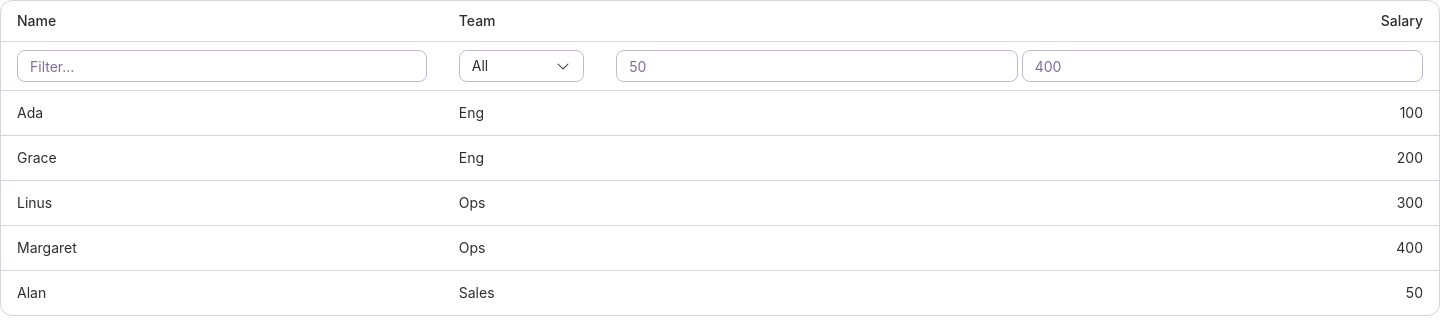
Test case: DataTable features › filters by column text, select (with counts) and number range
Type "a" into the field named "Filter Name".
click(222, 66); type("a")  # box 17,50 -> 427,82
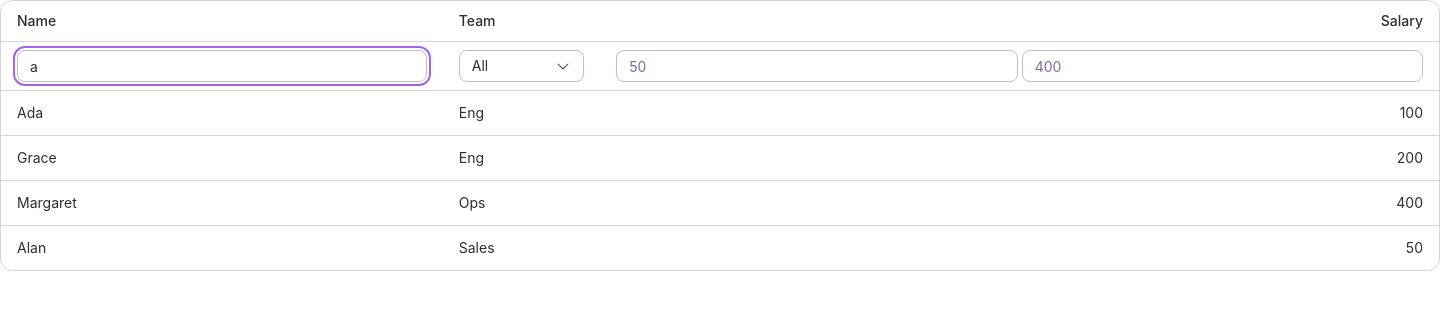
Expected: the text "Ada" is shown, 1,90 -> 443,136
Now the text "Linus" is gone
Clear the field named "Filter Name" at coordinates (222, 66), box 17,50 -> 427,82
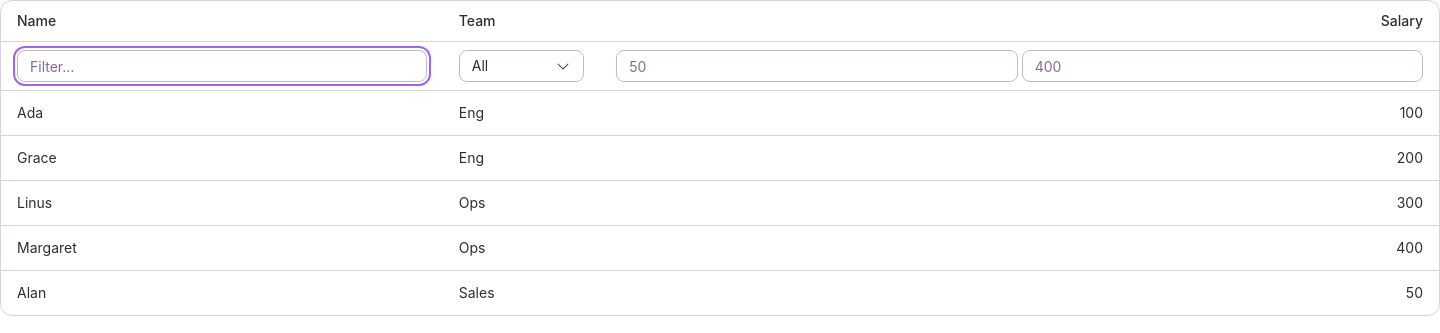
Click the dropdown named "Filter Team".
click(522, 66)  # box 459,50 -> 584,82
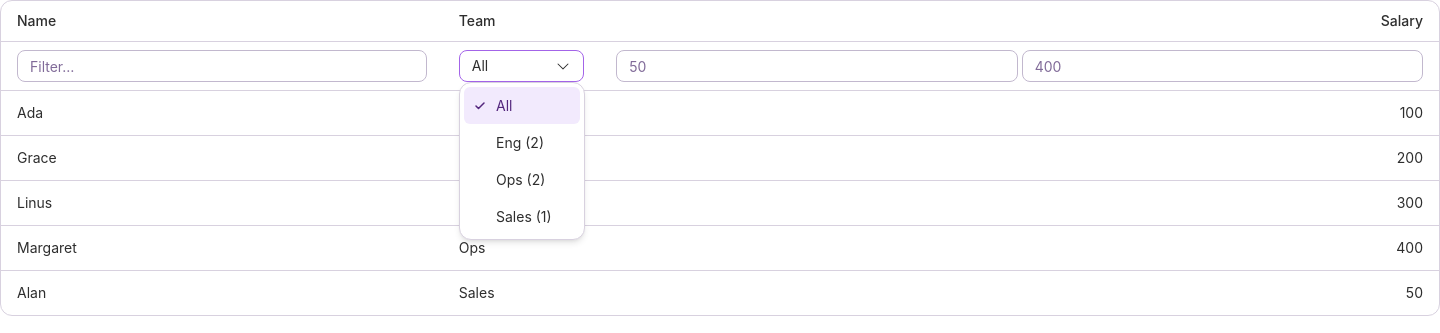
Now the option "Eng (2)" is shown, box 496,134 -> 544,151
Click the option "Ops (2)".
click(521, 180)  # box 496,171 -> 545,188
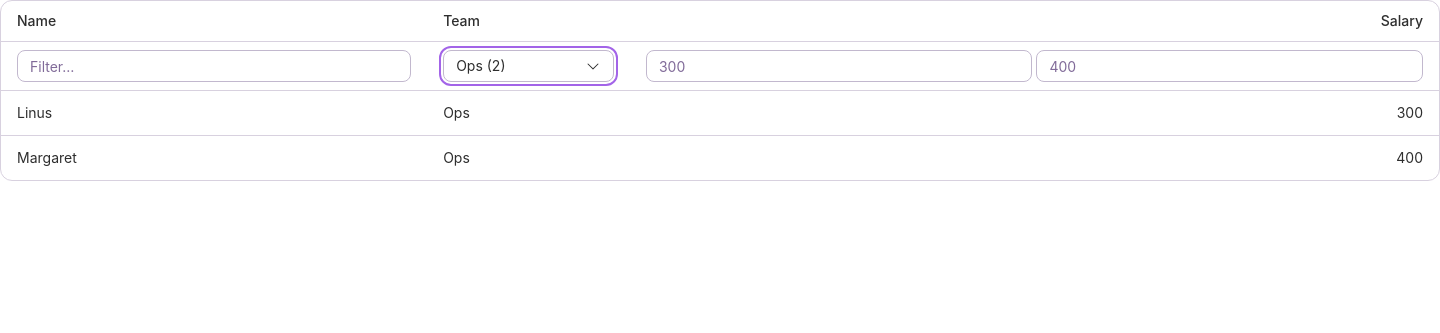
Expected: the text "Margaret" is shown, 1,136 -> 427,180
Now the text "Ada" is gone
Type "350" into the number field named "Salary minimum".
click(839, 66); type("350")  # box 646,50 -> 1032,82
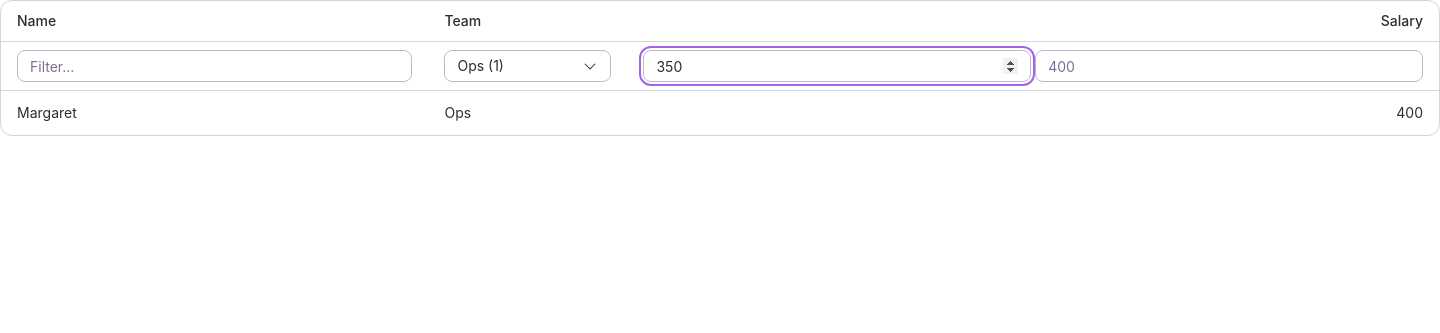
Expected: the text "Margaret" is shown, 1,90 -> 428,135
Now the text "Linus" is gone
